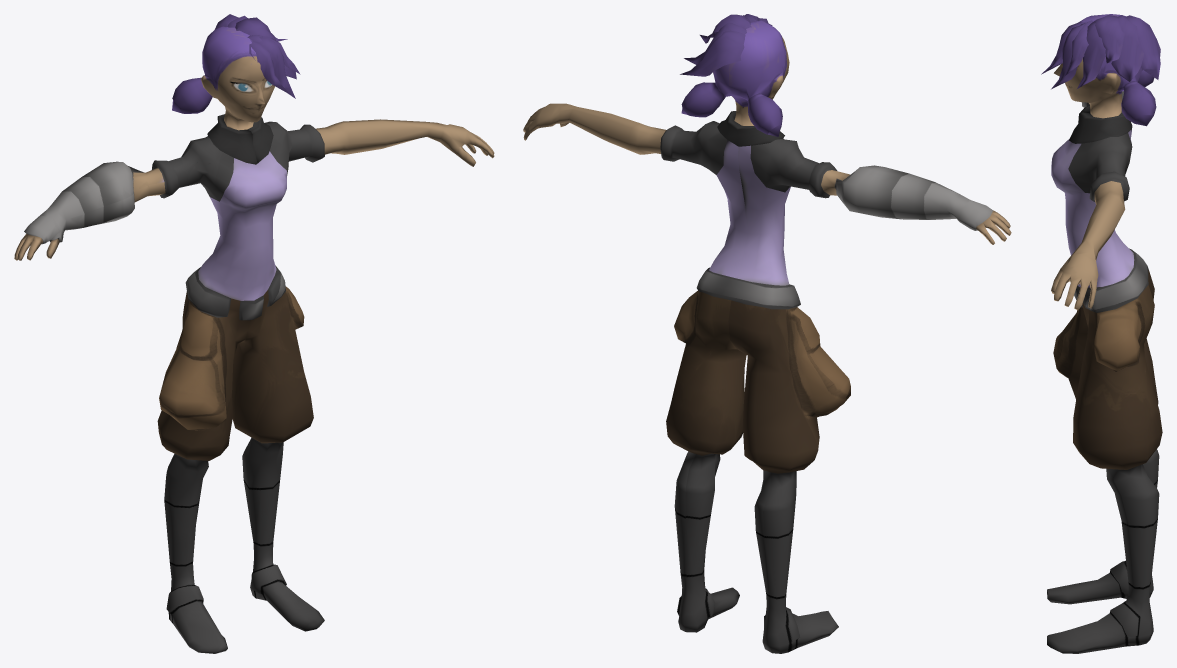
Rendered from Tesla_SEP.fbx.
3 views of the same model, side by side, from view 1: azimuth 30°, elevation 25°; view 2: azimuth 150°, elevation 25°; view 3: azimuth 270°, elevation 25° (orthographic). The views are drawn at different scales.
Parts seen in each view (by area): view 1: polySurface79, polySurface77, polySurface53, polySurface62, polySurface73, polySurface89, polySurface75, polySurface88, polySurface61, polySurface80, polySurface67, polySurface55 (+7 smaller); view 2: polySurface79, polySurface77, polySurface53, polySurface62, polySurface75, polySurface73, polySurface89, polySurface80, polySurface61, polySurface64, polySurface91, polySurface67 (+9 smaller); view 3: polySurface77, polySurface75, polySurface53, polySurface93, polySurface89, polySurface79, polySurface66, polySurface64, polySurface55, polySurface91, polySurface88, polySurface67 (+13 smaller).
Part boxes in pixels (x1,y1,x2,y2): polySurface79: (157, 291, 237, 460); polySurface77: (232, 286, 313, 443); polySurface53: (172, 26, 274, 122); polySurface62: (48, 161, 144, 232); polySurface73: (164, 453, 208, 590); polySurface89: (185, 261, 285, 343); polySurface75: (242, 437, 283, 571); polySurface88: (210, 151, 286, 227); polySurface61: (132, 141, 215, 202); polySurface80: (203, 236, 273, 287); polySurface67: (335, 119, 429, 154); polySurface55: (207, 107, 273, 164); polySurface79: (741, 304, 850, 473); polySurface77: (666, 290, 746, 455); polySurface53: (681, 20, 789, 136); polySurface62: (835, 165, 959, 219); polySurface75: (674, 451, 720, 601); polySurface73: (754, 470, 796, 624); polySurface89: (696, 261, 800, 354); polySurface80: (714, 224, 786, 281); polySurface61: (760, 141, 850, 198); polySurface64: (637, 125, 714, 164); polySurface91: (762, 607, 832, 653); polySurface67: (569, 107, 649, 154); polySurface77: (1073, 285, 1162, 469); polySurface75: (1106, 464, 1159, 616); polySurface53: (1054, 14, 1156, 126); polySurface93: (1071, 601, 1153, 653); polySurface89: (1074, 243, 1154, 327); polySurface79: (1053, 307, 1158, 404); polySurface66: (1051, 240, 1098, 310); polySurface64: (1087, 144, 1132, 204); polySurface55: (1069, 93, 1131, 143); polySurface91: (1067, 561, 1153, 604); polySurface88: (1051, 138, 1095, 212); polySurface67: (1081, 191, 1125, 252).
Size of the model in its own units: 168 by 202 by 36.64.
Materials: 1 (1 with a texture image).
